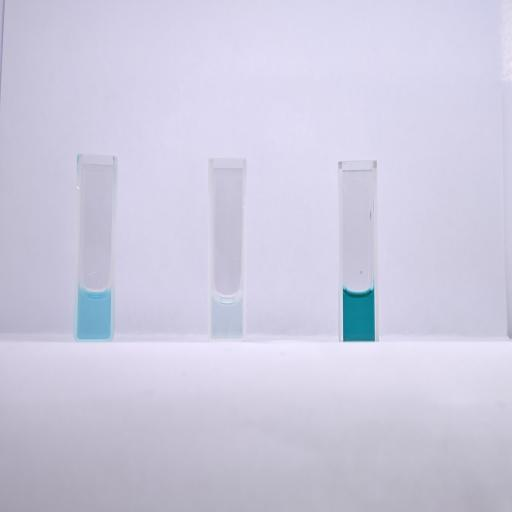cuvette: (72, 152, 119, 344), (337, 158, 379, 344), (206, 156, 248, 342)
liquid: (77, 286, 111, 340), (343, 288, 374, 338), (211, 293, 242, 338)
